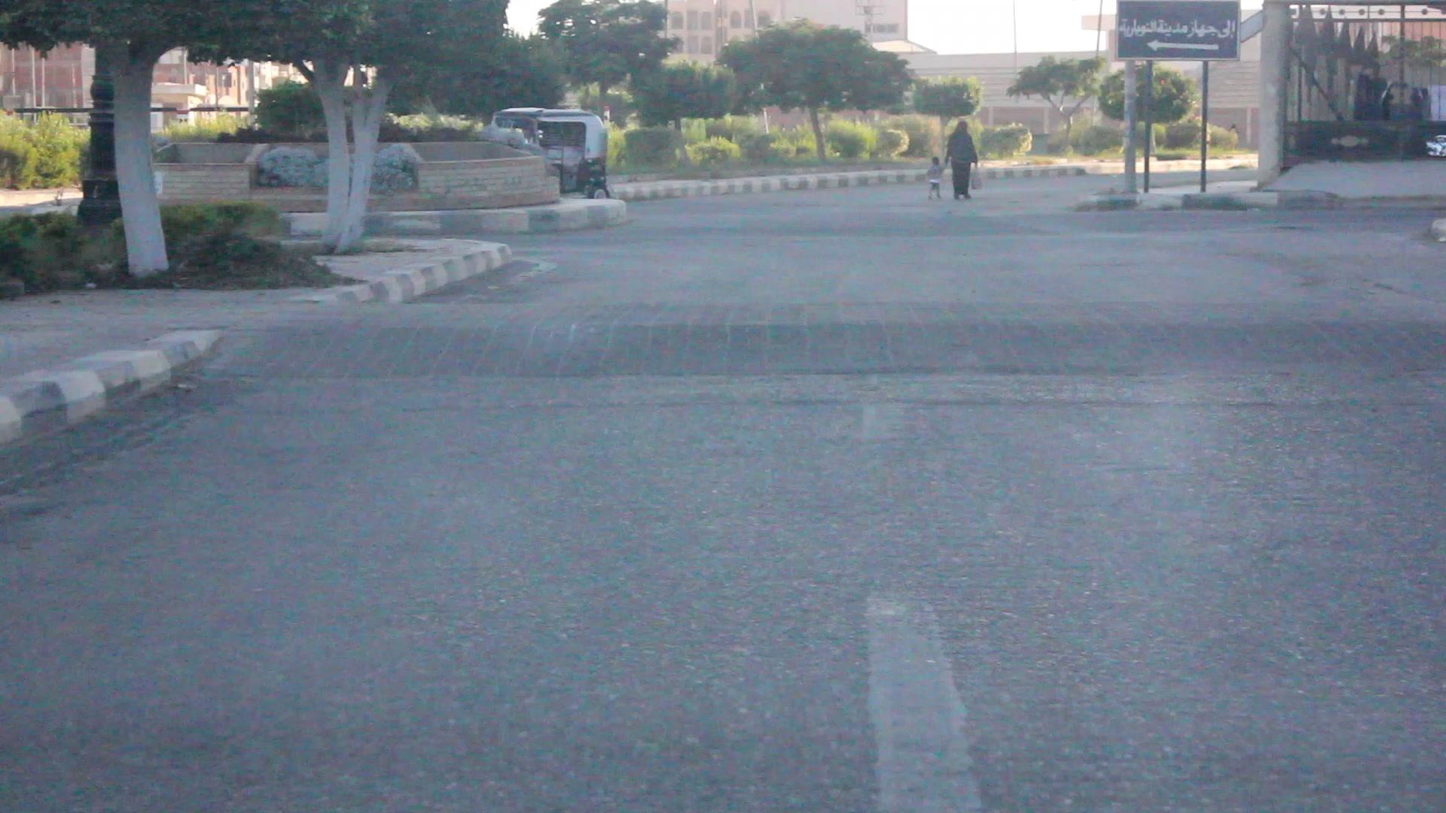Bump: (179, 294, 1445, 373)
